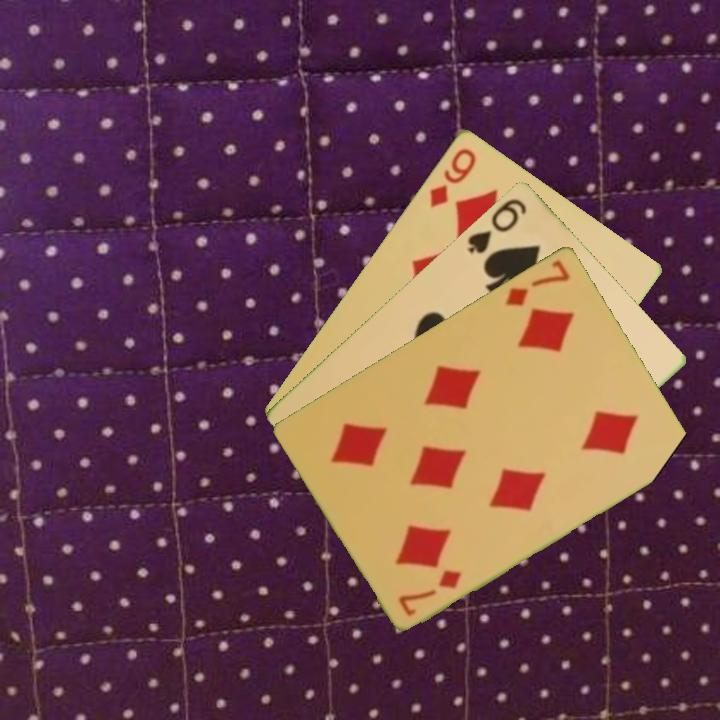6s: (463, 194, 530, 256)
7d: (501, 255, 573, 309), (395, 565, 465, 619)
9d: (425, 144, 479, 210)
